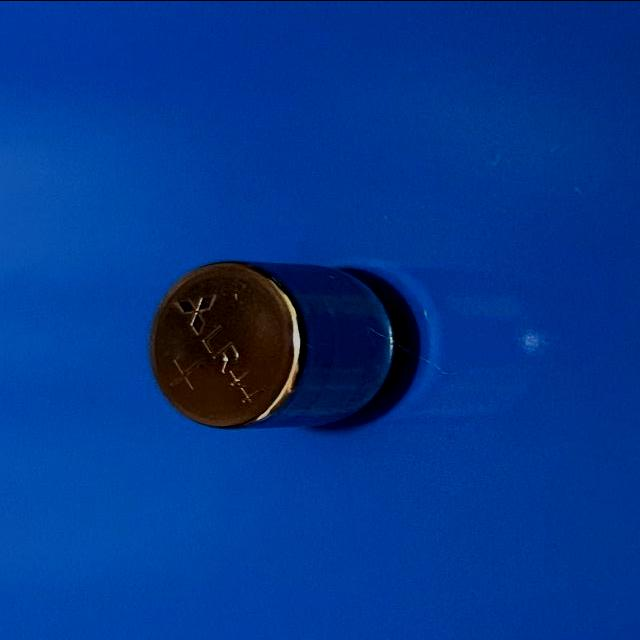COIN: (146, 256, 407, 432)
